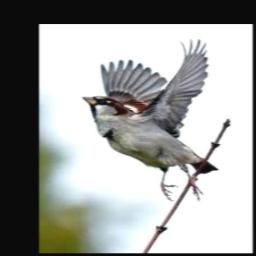Sparrow: (82, 38, 218, 201)
